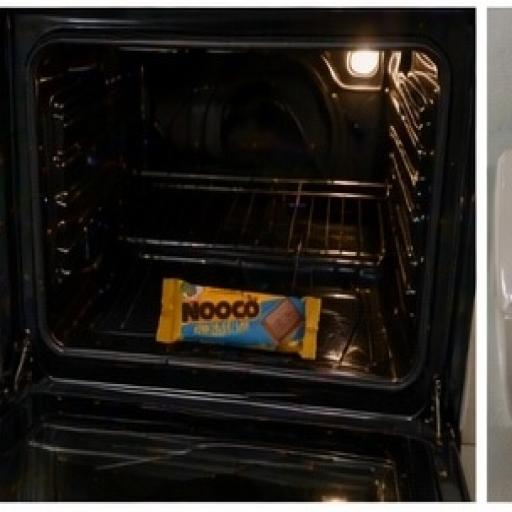nooco: (145, 240, 342, 398)
